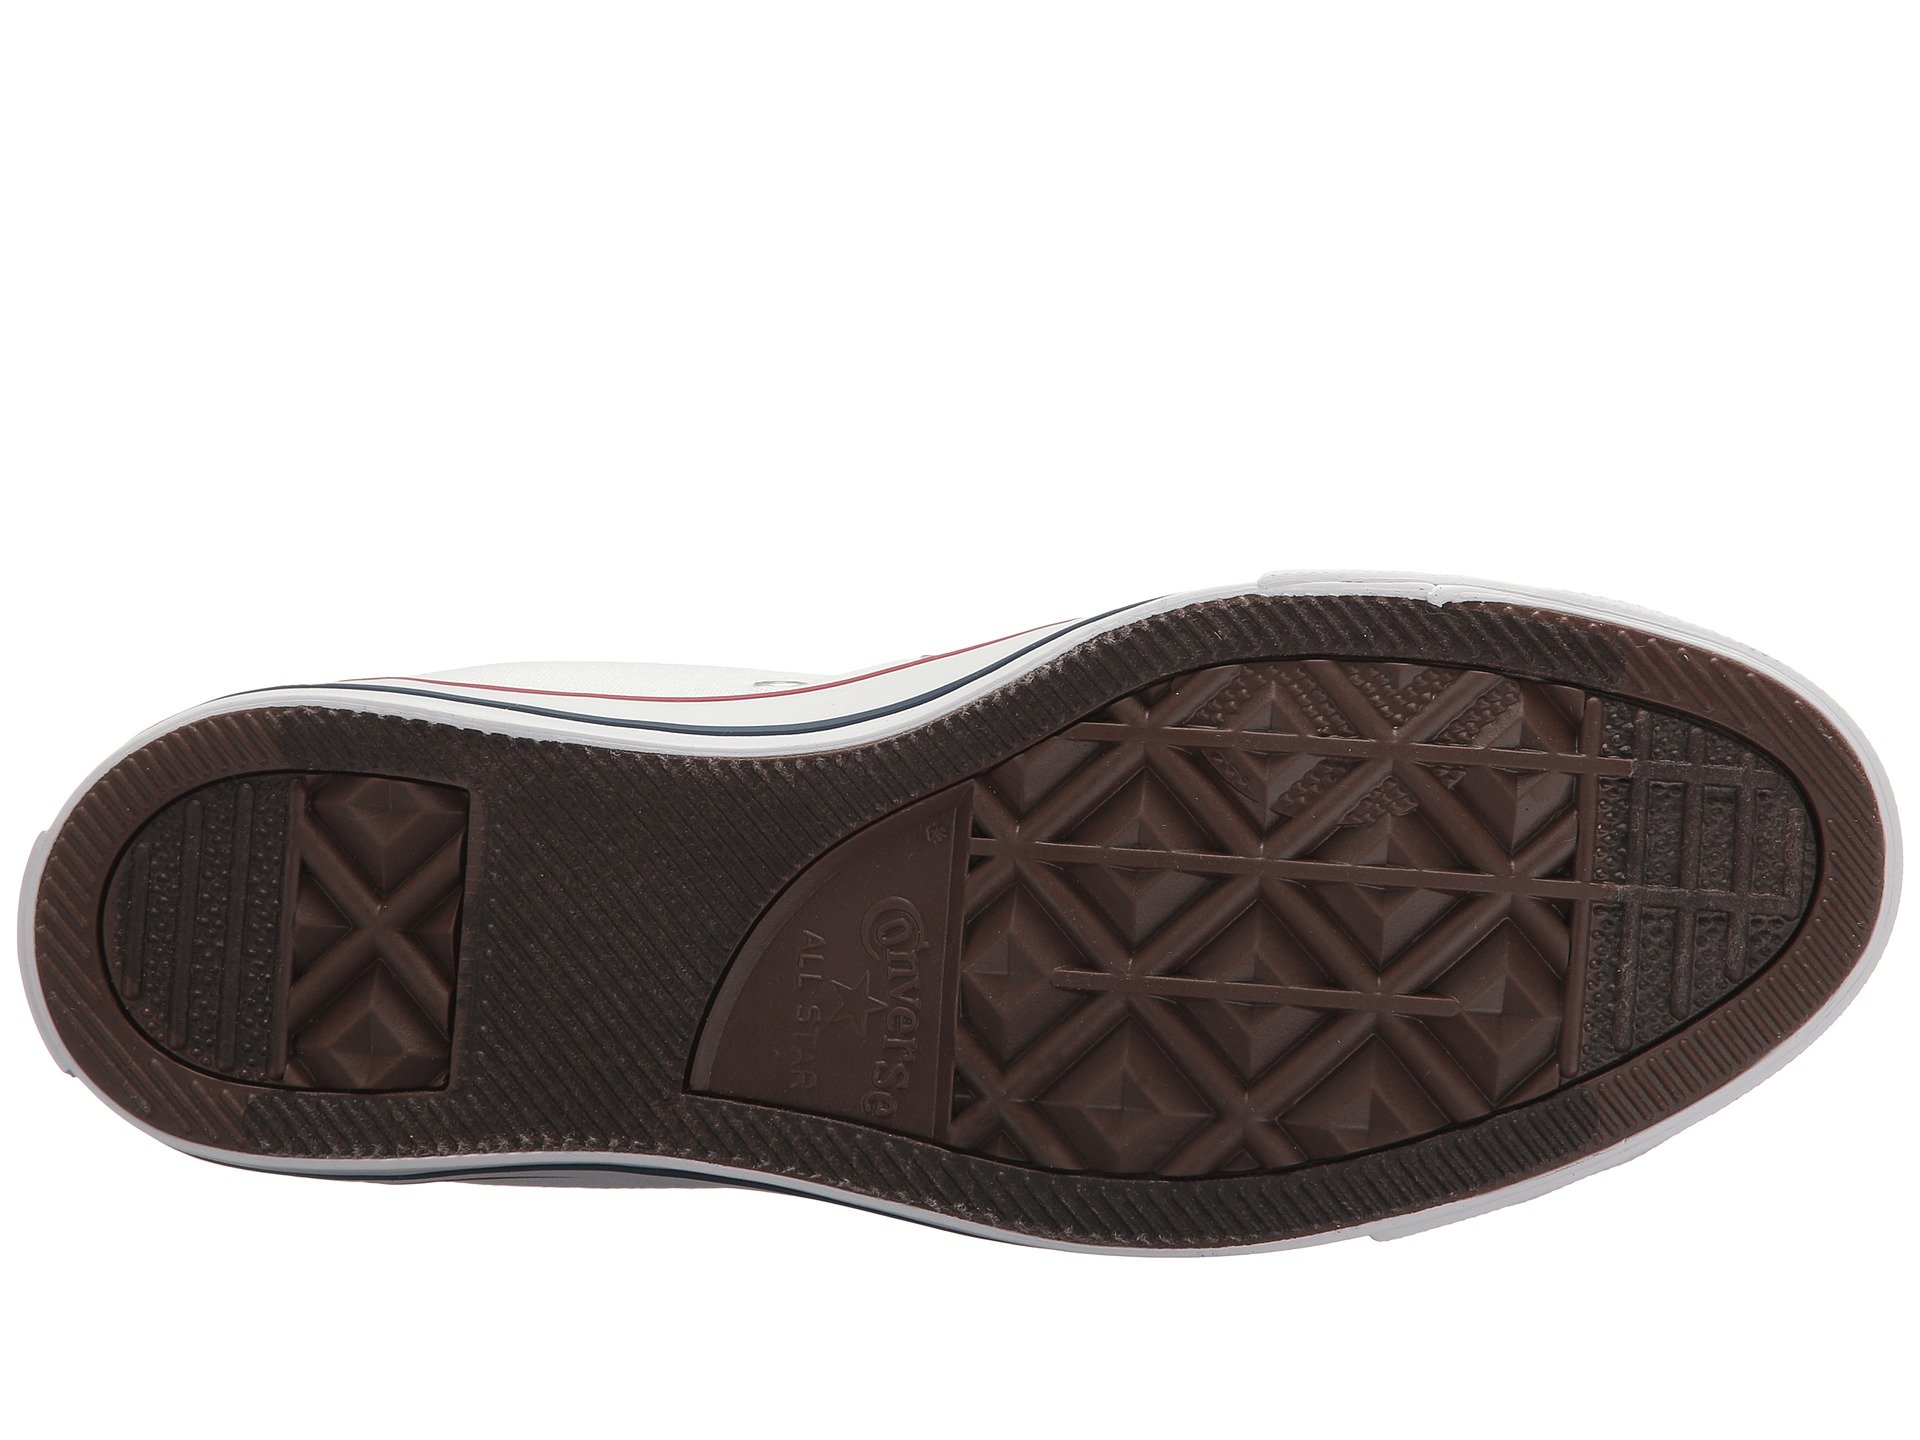other: (469, 218, 698, 446)
quad: (948, 234, 1315, 585), (1577, 204, 1782, 401), (272, 368, 441, 531), (125, 284, 274, 427)
text: (762, 377, 921, 542)
